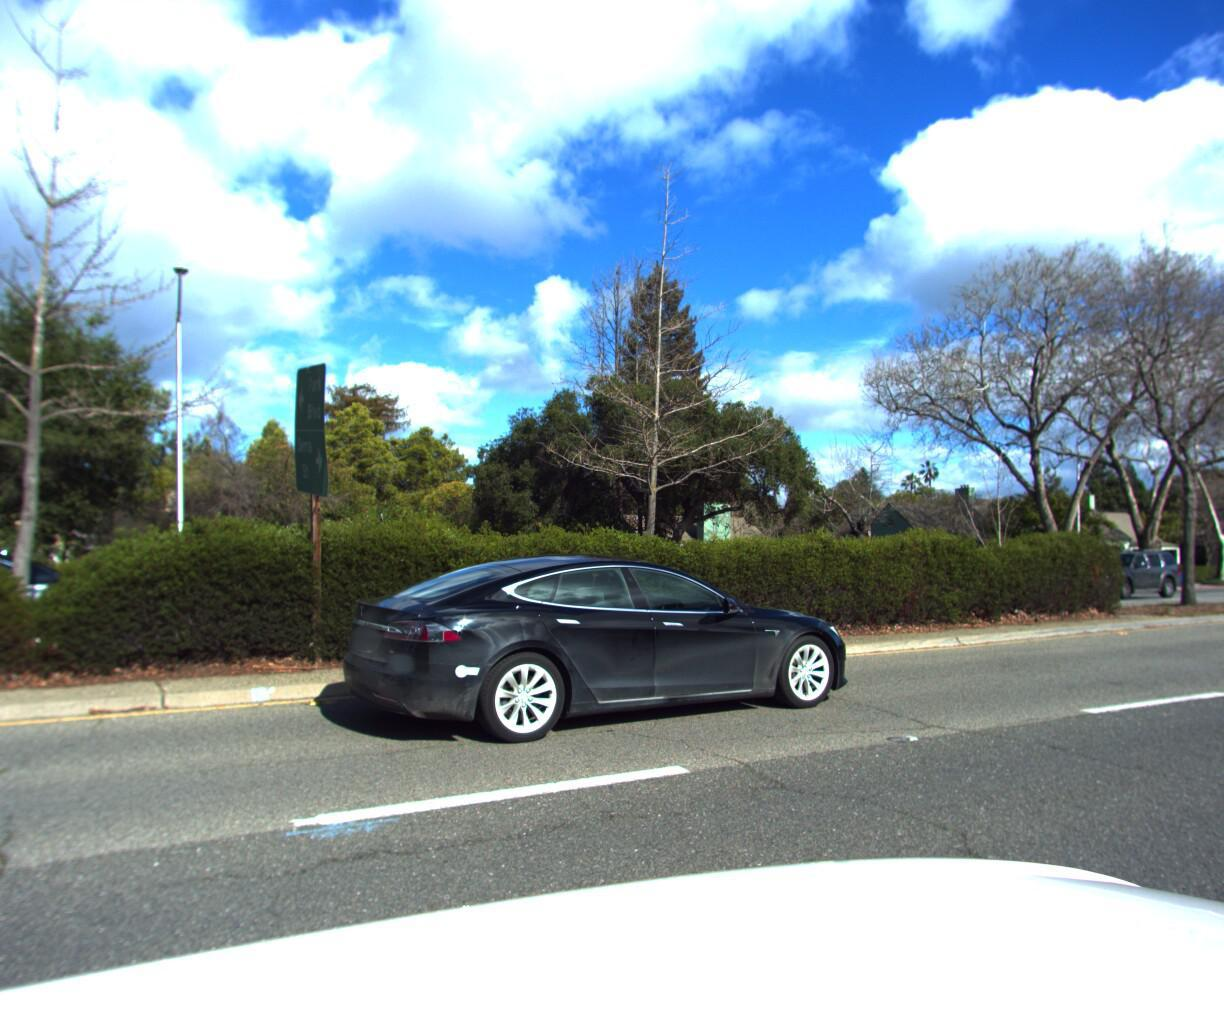car: (314, 539, 885, 772), (0, 502, 304, 618), (1068, 546, 1190, 596)
